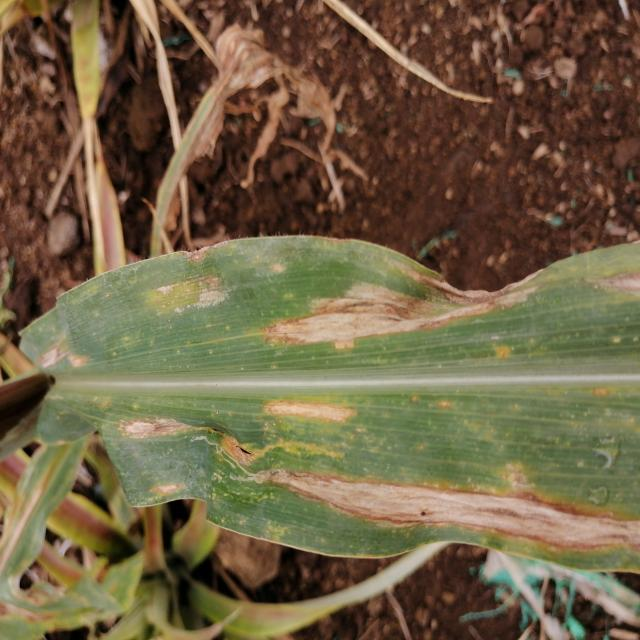Corn_Leaf_Blight: (19, 228, 640, 583)
